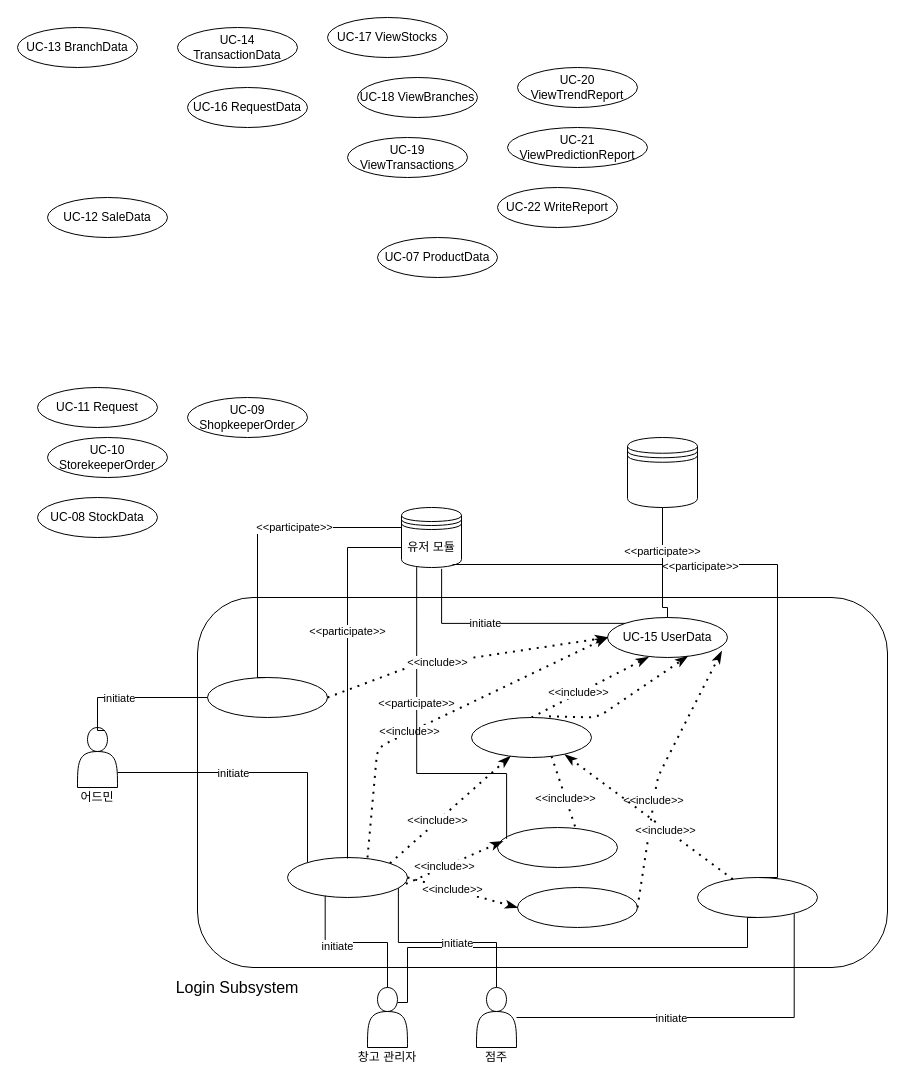
The diagram is 905 pixels wide and 1085 high, and some of its shapes have lost their labels. The box of each missing label's shape, as (x1, y1, x2, y2) in pixels:
UC-01 Login: (286, 856, 408, 898)
UC-02 Logout: (516, 886, 638, 928)
UC-03 Register: (696, 876, 818, 918)
UC-04 Acceptusers: (206, 676, 328, 718)
UC-05 ModifyProfile: (496, 826, 618, 868)
UC-06 AuthenticateUser: (470, 716, 592, 758)
데이터 모듈: (626, 436, 698, 508)
